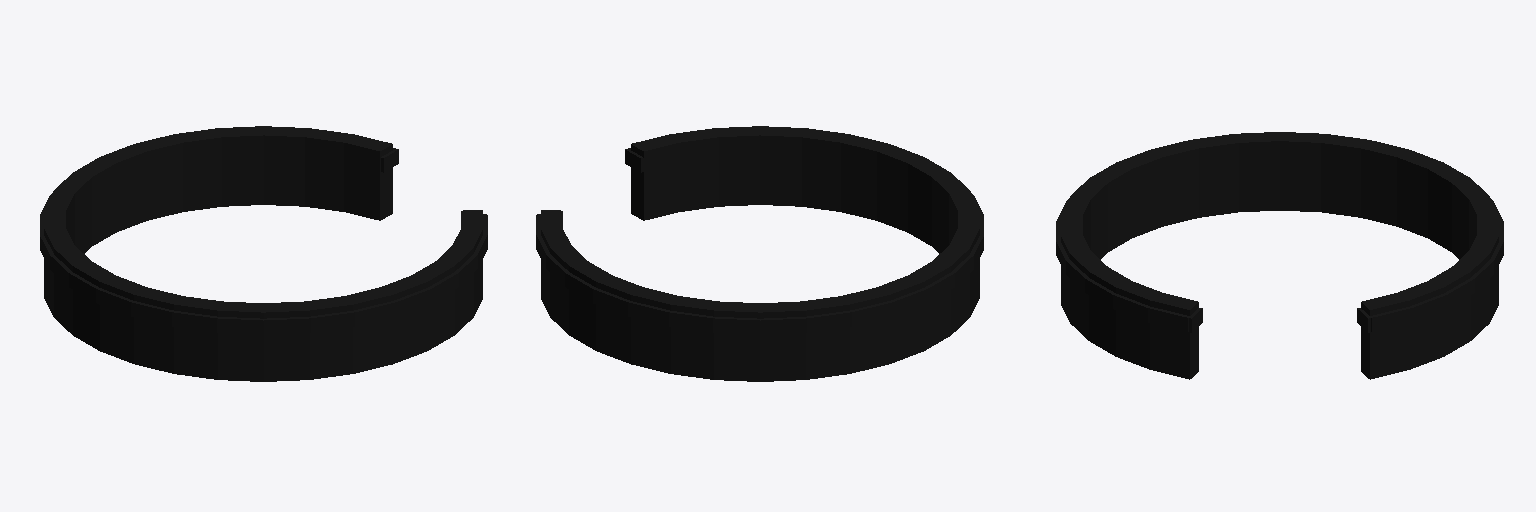
The model's file is Desk.obj.
The picture shows the model from 3 angles: view 1: azimuth 30°, elevation 25°; view 2: azimuth 150°, elevation 25°; view 3: azimuth 270°, elevation 25°; orthographic projection.
Visible parts, largest first — view 1: Spawn_Bar, Spawn_BarDetail2; view 2: Spawn_Bar, Spawn_BarDetail2; view 3: Spawn_Bar, Spawn_BarDetail2.
Part boxes in pixels (left/top/right/bottom): Spawn_Bar: left=44, top=126, right=482, bottom=381; Spawn_BarDetail2: left=40, top=148, right=487, bottom=334; Spawn_Bar: left=541, top=126, right=979, bottom=381; Spawn_BarDetail2: left=536, top=148, right=983, bottom=334; Spawn_Bar: left=1061, top=132, right=1498, bottom=379; Spawn_BarDetail2: left=1056, top=199, right=1503, bottom=332.
Bounding box in the file's own units: 1.96 × 0.3475 × 2.03.